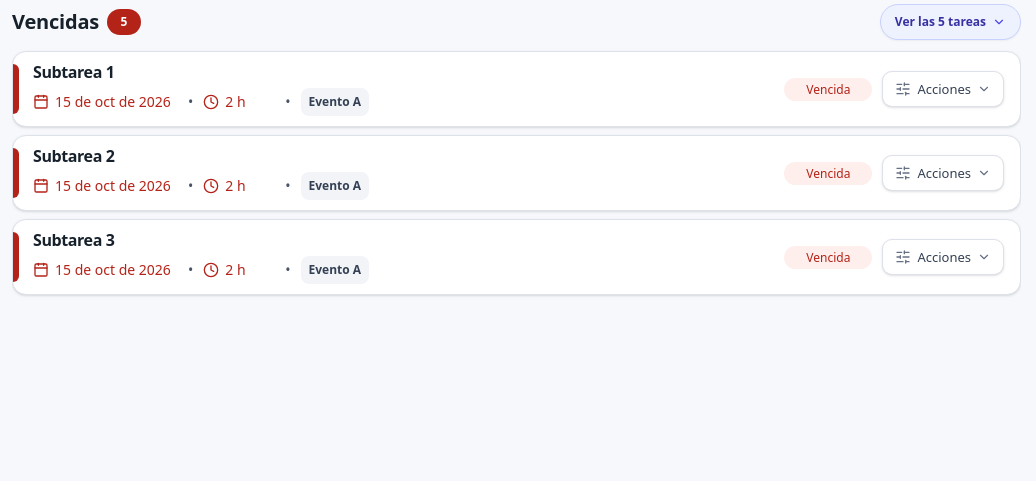
Scenario: TodayTaskSection › muestra tres tareas y permite ver todas sin cambiar las tarjetas
Expected: the text "Subtarea 3" is shown, [33,230,114,250]
Expected: the text "Subtarea 4" is not shown
Click the button with aria-label "Ver todas las tareas de Vencidas (5)".
click(950, 22)  # box [880,4,1021,40]
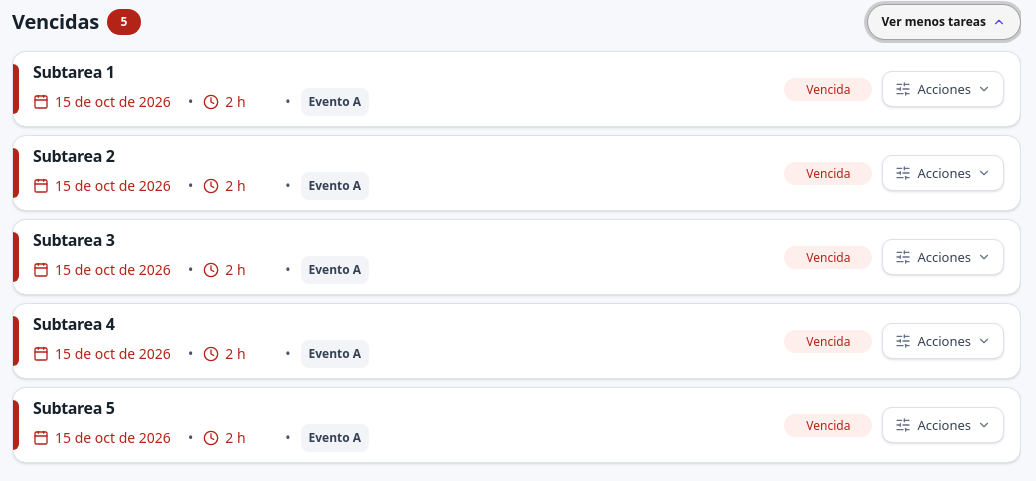
Expected: the button named "Ver todas las tareas de Vencidas (5)" is expanded
Expected: the text "Subtarea 4" is shown, [33,314,114,334]
Expected: the text "Subtarea 5" is shown, [33,398,114,418]
Click the button with aria-label "Ver menos tareas de Vencidas".
click(944, 22)  # box [866,4,1021,40]
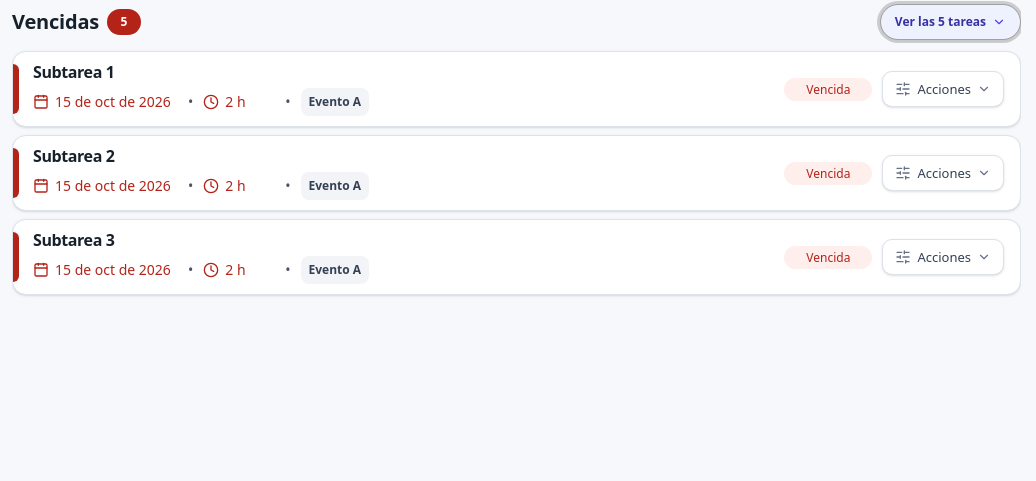
Expected: the button "Subtarea 4" is gone
Expected: the button named "Ver menos tareas de Vencidas" is collapsed, [880,4,1021,40]
